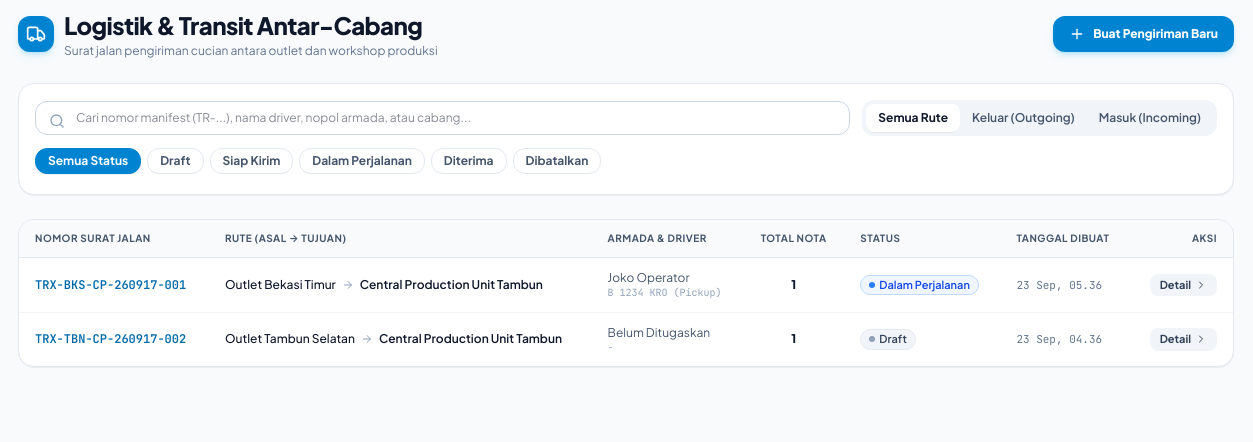
Scenario: Transit Manifest UI Components › TransitListView › renders empty state when no manifests match filter
This screenshot has width=1253, height=442.
Expected: the text "TRX-BKS-CP-260917-001" is shown, [19,258,209,312]
# Filter by non-matching search term
Replace the text in the field with placeholder "Cari nomor manifest" with "NONEXISTENT-MANIFEST-XYZ" at (443, 118), box [35,101,850,135]
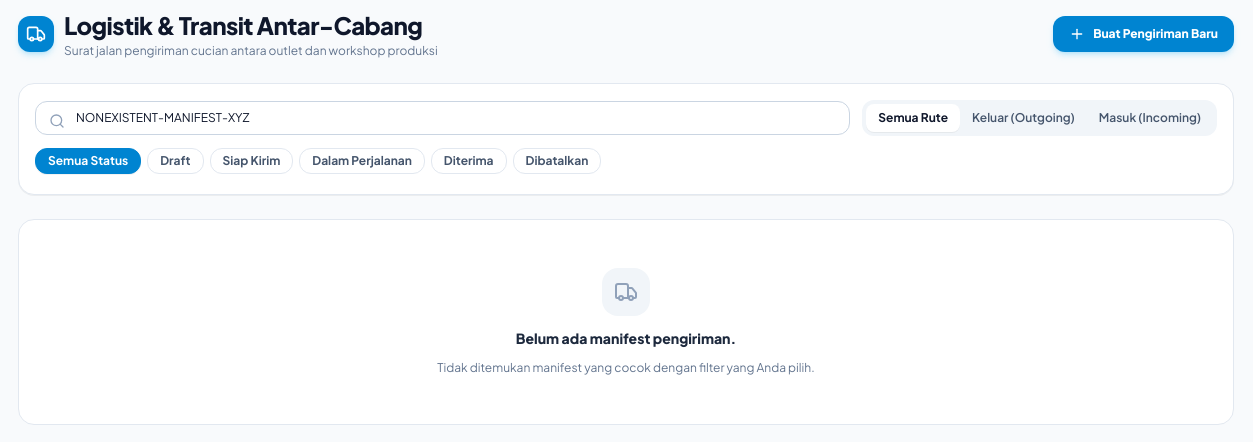
Result: the heading "Belum ada manifest pengiriman." is shown at [516,329,736,347]
